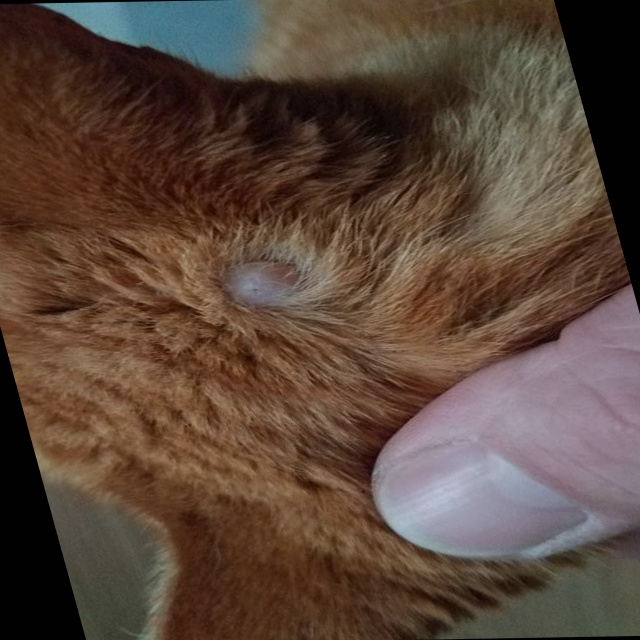lump_and_bump: (212, 250, 317, 312)
